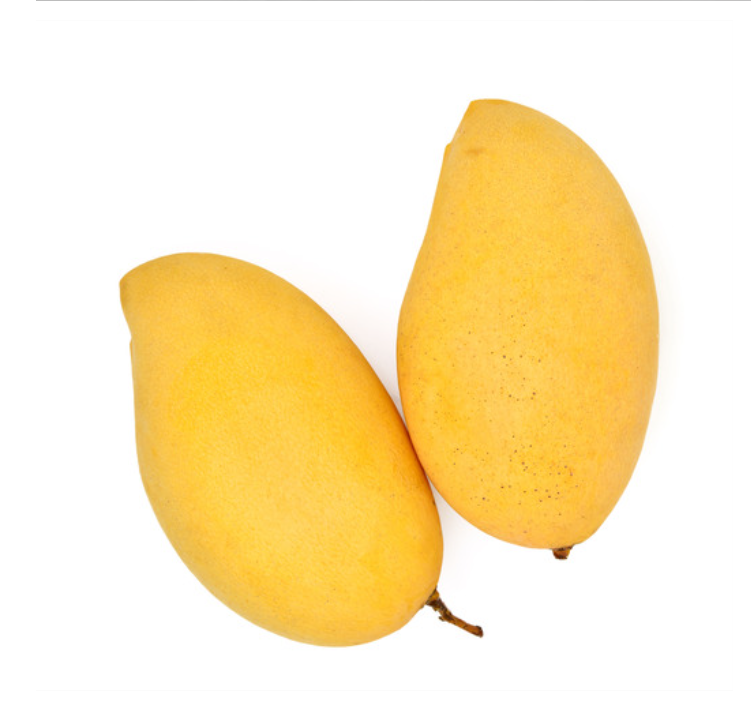mango: (115, 247, 444, 648), (397, 95, 656, 556)
